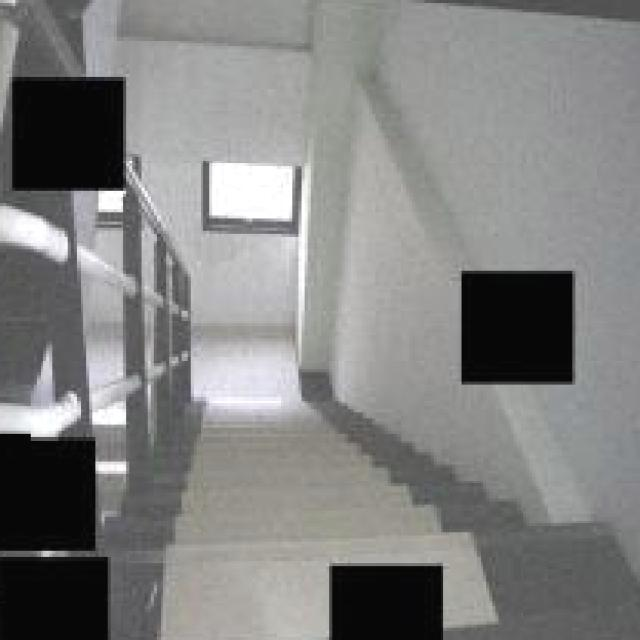downstair: (177, 417, 371, 543)
